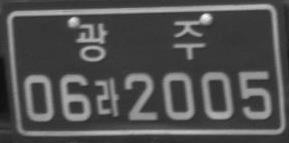0: (160, 71, 196, 121), (200, 70, 234, 121), (23, 73, 54, 123)
2: (122, 71, 159, 122)
5: (237, 69, 274, 121)
6: (58, 73, 93, 122)
광주_D: (75, 19, 207, 62)
라: (94, 76, 120, 118)
